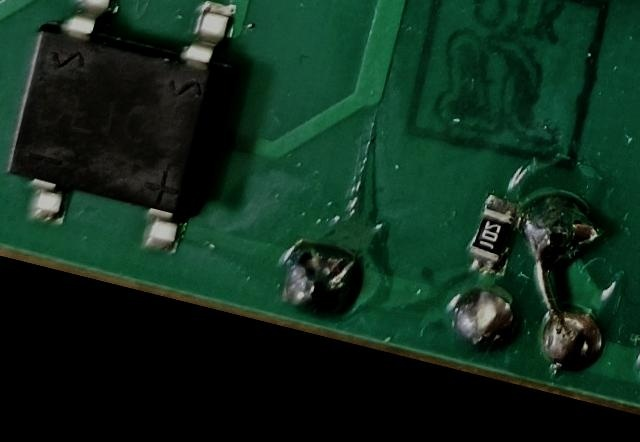chip-resistor: (462, 191, 522, 279)
ic: (0, 0, 254, 264)
